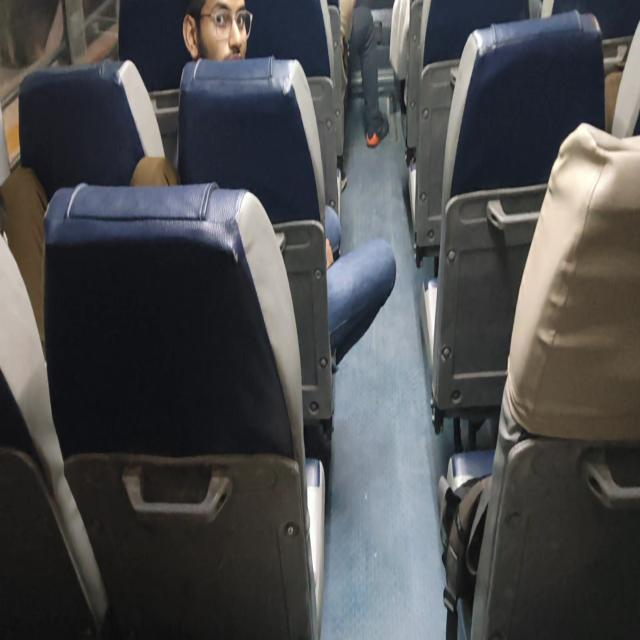person: (188, 1, 246, 66)
